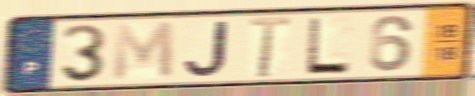3: (59, 23, 109, 83)
6: (367, 14, 417, 74)
J: (182, 19, 230, 79)
L: (302, 15, 353, 76)
M: (111, 19, 177, 83)
T: (247, 15, 293, 81)
